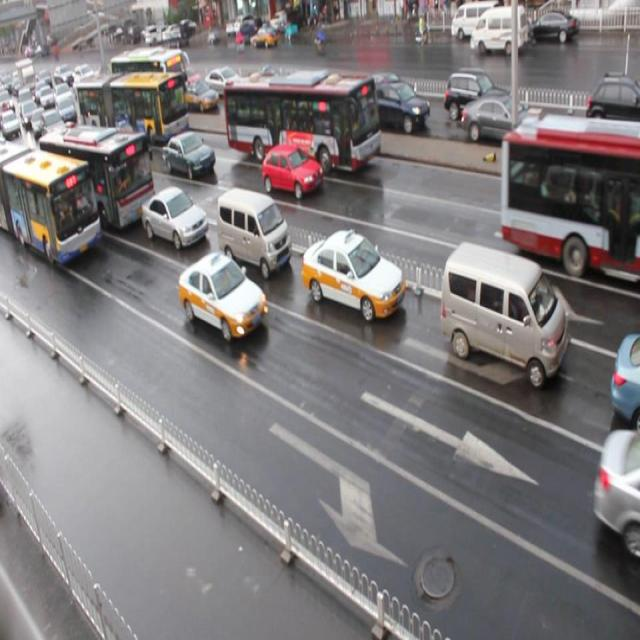car: (300, 228, 404, 321), (178, 250, 267, 341), (141, 185, 208, 250), (261, 144, 322, 197), (165, 131, 214, 178)
truck: (440, 240, 568, 386), (216, 186, 292, 276)
van: (500, 116, 640, 276), (222, 72, 380, 173), (38, 121, 156, 232), (1, 142, 102, 266), (78, 70, 190, 143)
